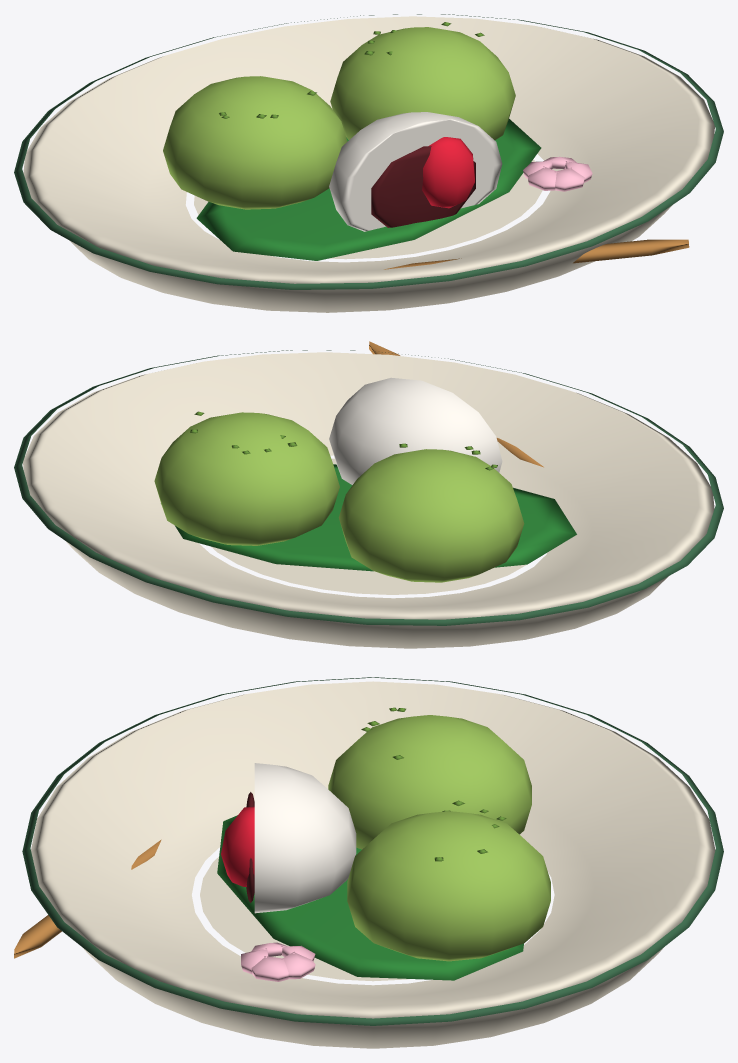
3 views of the same model, one above another, from view 1: azimuth 30°, elevation 25°; view 2: azimuth 150°, elevation 25°; view 3: azimuth 270°, elevation 25° (orthographic). The views are drawn at different scales.
Visible parts, largest first — view 1: plate, mochi (×2), leaf, mochi_cut, band, plate_well, red_bean, strawberry_core, pick, sakura (×2); view 2: plate, mochi (×2), mochi_cut, band, leaf, plate_well, pick; view 3: plate, mochi (×2), mochi_cut, band, leaf, plate_well, strawberry_core, sakura (×2), pick.
Part boxes in pixels (x1=…): plate: x1=23, y1=16, x2=714, y2=312; mochi (×2): x1=163, y1=27, x2=515, y2=209; leaf: x1=196, y1=118, x2=541, y2=260; mochi_cut: x1=329, y1=112, x2=502, y2=231; band: x1=14, y1=14, x2=723, y2=289; plate_well: x1=194, y1=159, x2=542, y2=259; red_bean: x1=371, y1=146, x2=475, y2=227; strawberry_core: x1=422, y1=137, x2=474, y2=208; pick: x1=384, y1=239, x2=689, y2=269; sakura (×2): x1=528, y1=166, x2=584, y2=191; plate: x1=23, y1=352, x2=714, y2=648; mochi (×2): x1=154, y1=412, x2=524, y2=582; mochi_cut: x1=329, y1=377, x2=502, y2=484; band: x1=14, y1=350, x2=723, y2=625; leaf: x1=175, y1=464, x2=576, y2=571; plate_well: x1=211, y1=458, x2=526, y2=594; pick: x1=369, y1=341, x2=543, y2=467; plate: x1=31, y1=681, x2=715, y2=1048; mochi (×2): x1=328, y1=715, x2=550, y2=961; mochi_cut: x1=254, y1=763, x2=356, y2=913; band: x1=22, y1=677, x2=723, y2=1025; leaf: x1=217, y1=815, x2=523, y2=980; plate_well: x1=200, y1=857, x2=409, y2=981; strawberry_core: x1=221, y1=806, x2=254, y2=886; sakura (×2): x1=251, y1=951, x2=315, y2=981; pick: x1=14, y1=839, x2=161, y2=958.
Bounding box in the file's own units: 0.174 × 0.0361 × 0.1497.
